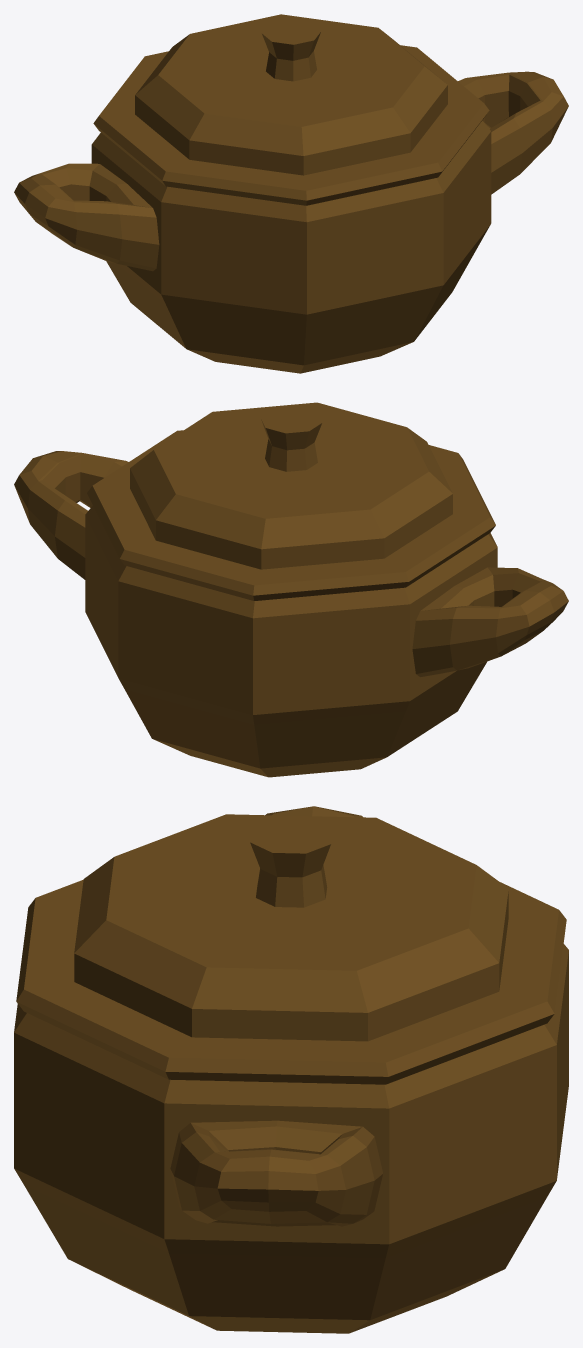
Rendered from Panela de Barro.fbx.
3 renders of one model, top to bottom at view 1: azimuth 30°, elevation 25°; view 2: azimuth 150°, elevation 25°; view 3: azimuth 270°, elevation 25°, orthographic. The views are drawn at different scales.
Parts seen in each view (by area): view 1: Panela; view 2: Panela; view 3: Panela.
Part boxes in pixels (<box>): Panela: <box>14,14,568,373</box>; Panela: <box>14,402,568,777</box>; Panela: <box>14,806,568,1333</box>.
Size of the model in its own units: 0.6698 by 0.3611 by 0.4233.
